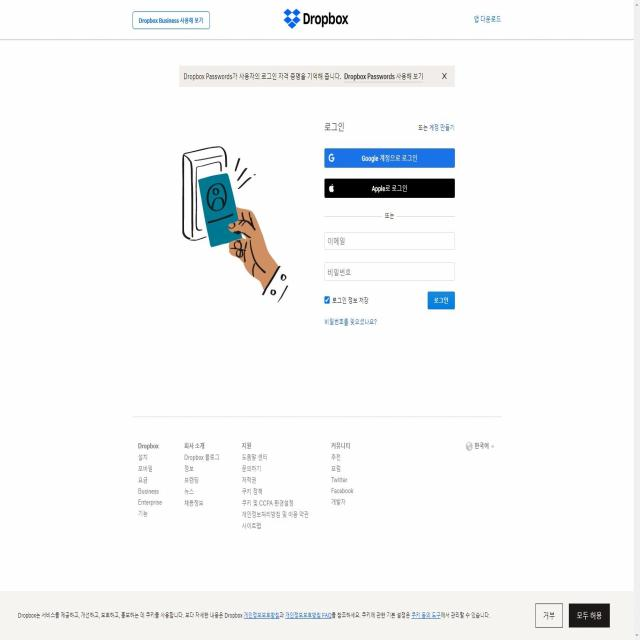button: (324, 148, 455, 170), (324, 178, 456, 199), (133, 12, 210, 29)
checkbox: (426, 290, 456, 310), (323, 294, 370, 306)
input: (324, 261, 455, 282), (324, 232, 456, 252)
